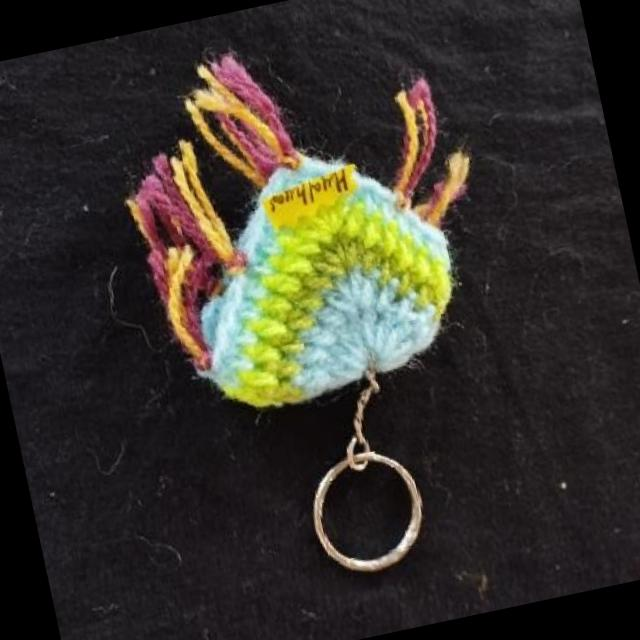Llavero: (98, 3, 514, 432)
